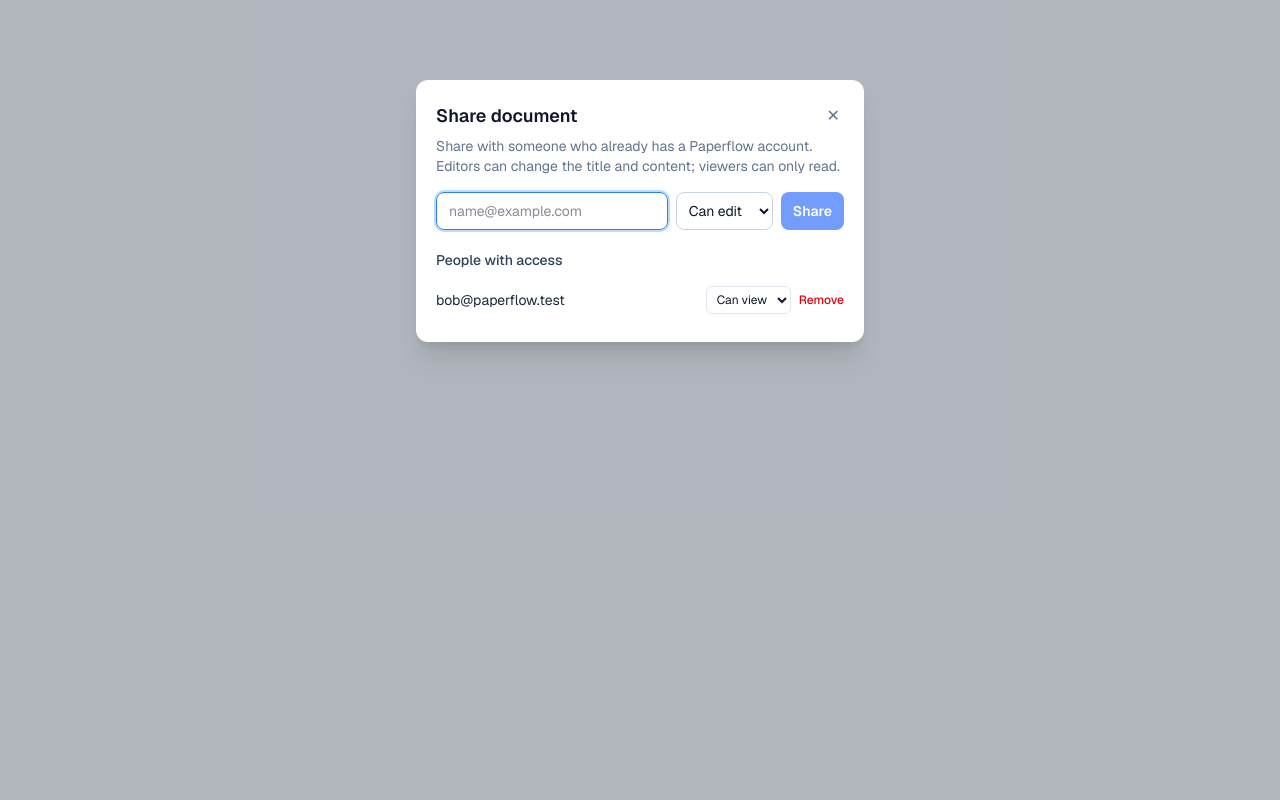
Test case: SharePanel permission changes › rolls back and shows the error when the change fails
The image size is (1280, 800).
Select "Can edit" in the dropdown named "Permission for bob@paperflow.test". click: coordinates (748, 300)
box: [706,286,791,314]
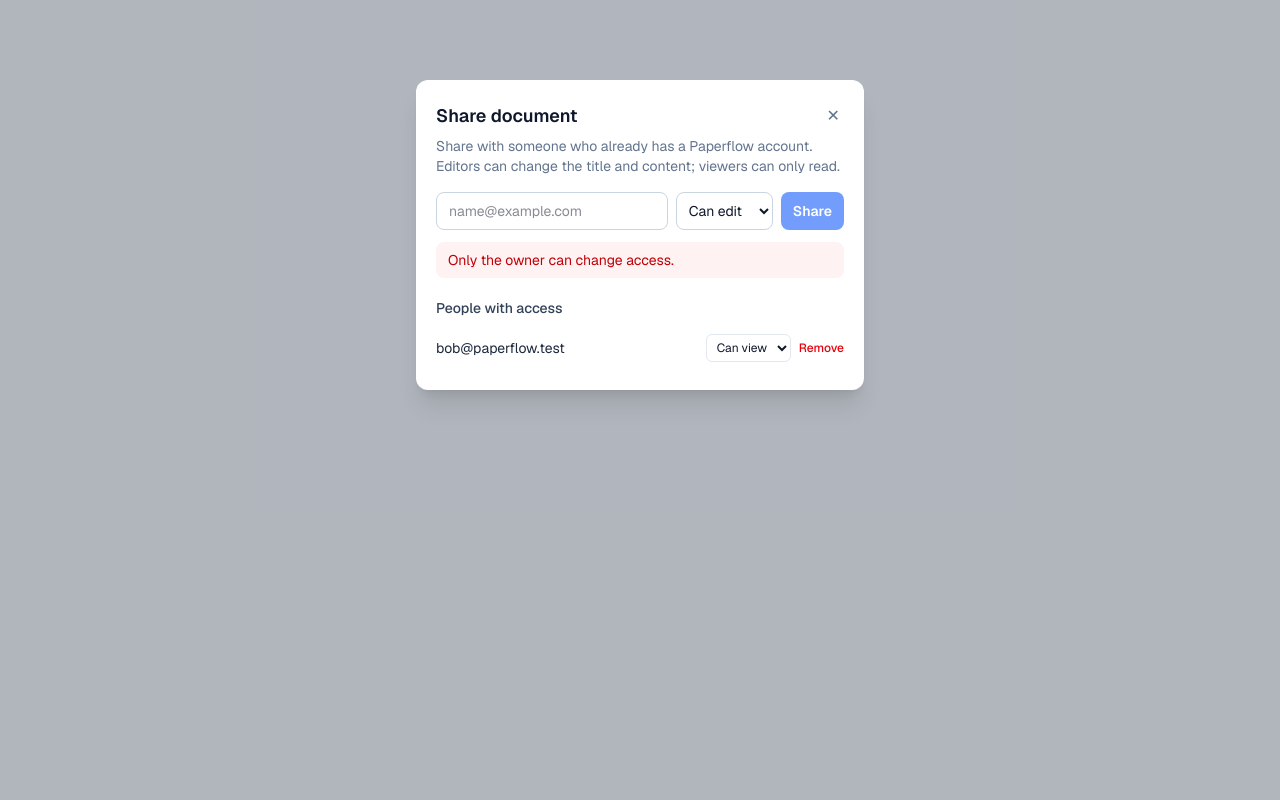
Expected: the message reads "Only the owner can change access.", [448,251,674,269]
